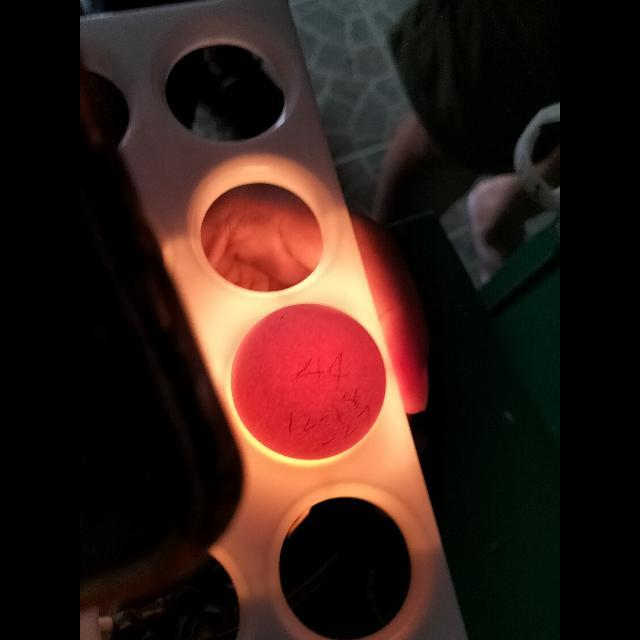Infertile: (232, 302, 386, 458)
